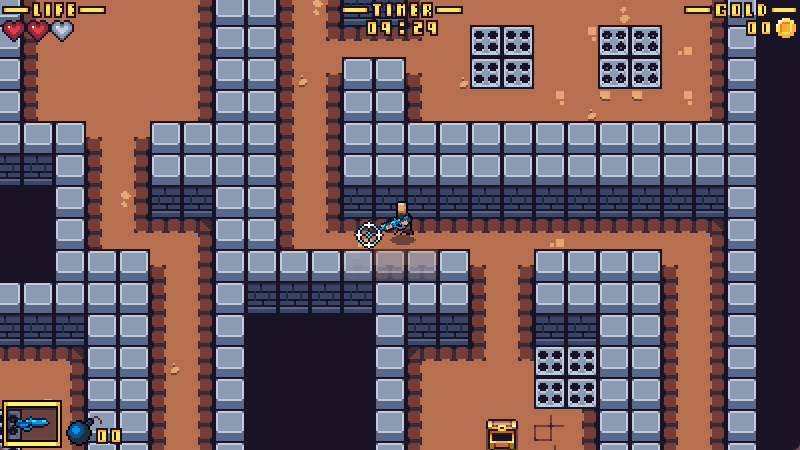aim: (355, 222, 382, 248)
bomb_counter_0: (66, 415, 123, 450)
gold_counter: (686, 1, 800, 40)
health-2: (1, 18, 76, 44)
player: (378, 202, 413, 240)
timer: (341, 1, 463, 37)
trap_off: (533, 346, 601, 411), (470, 25, 536, 89), (598, 25, 663, 89)
treasury_open: (485, 417, 520, 450)
